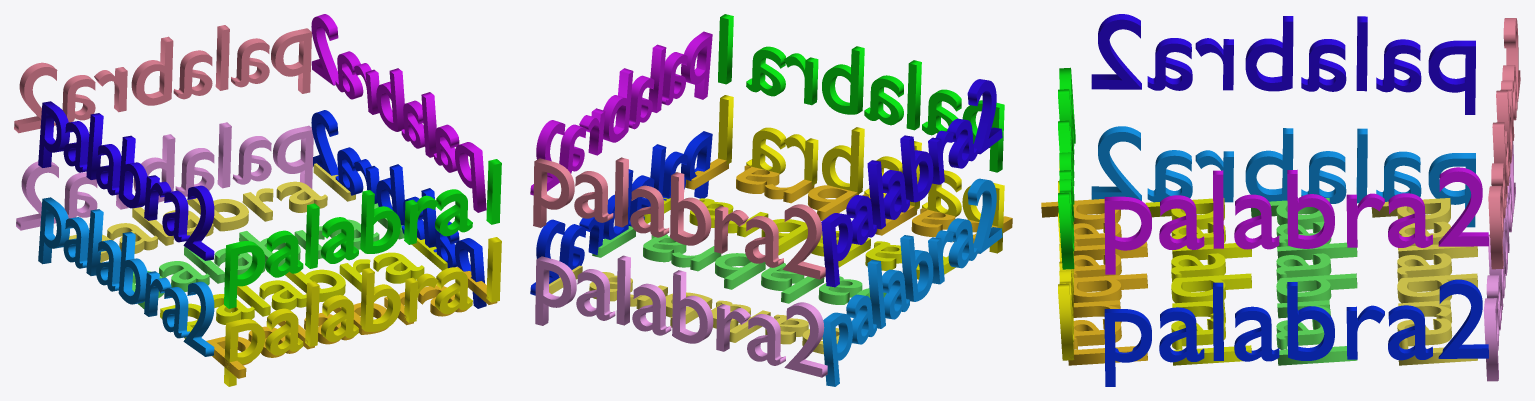
The model's file is palabras.gltf.
3 renders of one model, left to right at view 1: azimuth 30°, elevation 25°; view 2: azimuth 150°, elevation 25°; view 3: azimuth 270°, elevation 25°, orthographic. The views are drawn at different scales.
Parts seen in each view (by area): view 1: Text.003, Text.008, Text.007, Text.005, Text.006, Text.002, Text.004, Text.001, Text.010, Text.012, Text.011, Text.009; view 2: Text.004, Text.003, Text.005, Text.008, Text.006, Text.002, Text.007, Text.001, Text.011, Text.009, Text.010, Text.012; view 3: Text.005, Text.002, Text.001, Text.006, Text.009, Text.012, Text.011, Text.010, Text.003, Text.008, Text.004, Text.007.
Part boxes in pixels (box(x1,y1,x2,y2)): Text.003: box(14, 25, 311, 133); Text.008: box(224, 159, 501, 308); Text.007: box(224, 237, 501, 386); Text.005: box(38, 101, 214, 260); Text.006: box(38, 197, 214, 356); Text.002: box(311, 14, 486, 212); Text.004: box(16, 122, 313, 230); Text.001: box(311, 110, 486, 308); Text.010: box(160, 237, 447, 338); Text.012: box(69, 163, 355, 262); Text.011: box(132, 203, 404, 308); Text.009: box(206, 267, 497, 378); Text.004: box(535, 255, 827, 377); Text.003: box(533, 157, 825, 279); Text.005: box(821, 79, 1002, 287); Text.008: box(718, 14, 1004, 172); Text.006: box(822, 178, 1002, 386); Text.002: box(530, 31, 712, 195); Text.007: box(718, 95, 1004, 253); Text.001: box(530, 131, 712, 295); Text.011: box(592, 226, 886, 304); Text.009: box(685, 158, 1012, 243); Text.010: box(644, 198, 955, 279); Text.012: box(549, 265, 839, 354); Text.005: box(1091, 14, 1475, 114); Text.002: box(1104, 167, 1488, 274); Text.001: box(1104, 279, 1488, 386); Text.006: box(1091, 126, 1475, 227); Text.009: box(1041, 199, 1147, 365); Text.012: box(1371, 198, 1477, 365); Text.011: box(1251, 198, 1357, 365); Text.010: box(1145, 198, 1251, 365); Text.003: box(1488, 18, 1520, 269); Text.008: box(1058, 67, 1075, 269); Text.004: box(1483, 141, 1515, 381); Text.007: box(1058, 160, 1074, 360).
Bounding box in the file's own units: 3.43 × 2.02 × 4.13.
